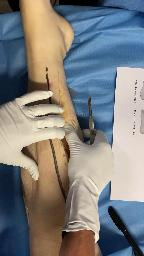scalpel: (88, 96, 96, 146)
